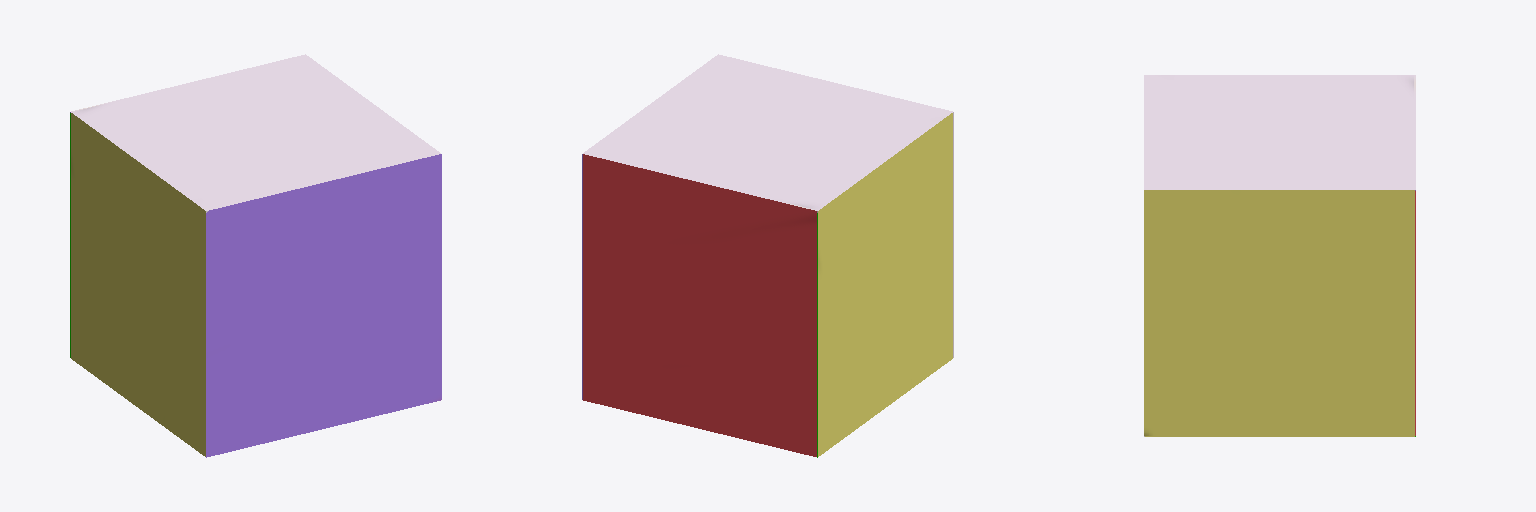
The picture shows the model from 3 angles: view 1: azimuth 30°, elevation 25°; view 2: azimuth 150°, elevation 25°; view 3: azimuth 270°, elevation 25°; orthographic projection.
Visible parts, largest first — view 1: Cube; view 2: Cube; view 3: Cube.
Boxes of the visible parts, box(x1,y1,x2,y2) form: Cube: box(70, 54, 441, 457); Cube: box(582, 54, 953, 457); Cube: box(1144, 75, 1415, 436).
Size of the model in its own units: 2 by 2 by 2.
1 materials, 1 textured.